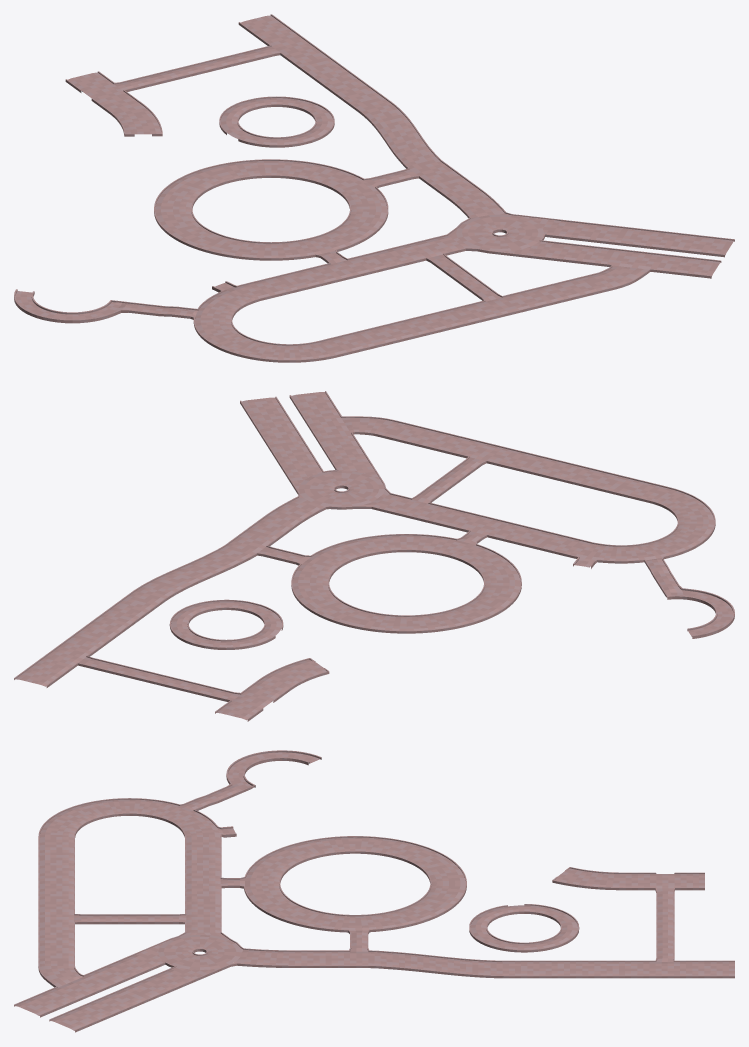
File: Map_PathsFlat.fbx
3 views of the same model, one above another, from view 1: azimuth 30°, elevation 25°; view 2: azimuth 150°, elevation 25°; view 3: azimuth 270°, elevation 25° (orthographic). The views are drawn at different scales.
Parts seen in each view (by area): view 1: MSH_Path_Wide_Long18, MSH_Path_Wide_Long5, polySurface2, MSH_Path_Wide_Long10, MSH_Path_Wide_Long2, MSH_Path_Wide_Long1, MSH_Path_Wide_Long7, MSH_Path_Wide_Long9, MSH_Path_Wide_Long13, MSH_Path_Wide_Medium8, MSH_Path_Wide_Long12, polySurface3 (+10 smaller); view 2: MSH_Path_Wide_Long18, MSH_Path_Wide_Long5, polySurface2, MSH_Path_Wide_Long2, MSH_Path_Wide_Long7, MSH_Path_Wide_Long1, MSH_Path_Wide_Long12, MSH_Path_Wide_Long13, MSH_Path_Wide_Medium8, MSH_Path_Wide_Long10, polySurface3, MSH_Path_Wide_Long9 (+10 smaller); view 3: MSH_Path_Wide_Long18, MSH_Path_Wide_Long5, MSH_Path_Wide_Long13, polySurface2, MSH_Path_Wide_Long12, MSH_Path_Wide_Medium8, MSH_Path_Wide_Long10, MSH_Path_Wide_Long9, MSH_Path_Wide_Long11, polySurface3, MSH_Path_Wide_Long2, MSH_Path_Wide_Long1 (+9 smaller).
Part boxes in pixels (x1,y1,x2,y2): MSH_Path_Wide_Long18: [154, 159, 388, 260]; MSH_Path_Wide_Long5: [193, 284, 337, 362]; polySurface2: [219, 96, 334, 147]; MSH_Path_Wide_Long10: [576, 222, 734, 257]; MSH_Path_Wide_Long2: [319, 308, 470, 356]; MSH_Path_Wide_Long1: [452, 276, 604, 324]; MSH_Path_Wide_Long7: [241, 252, 393, 300]; MSH_Path_Wide_Long9: [562, 244, 721, 278]; MSH_Path_Wide_Long13: [278, 42, 386, 108]; MSH_Path_Wide_Medium8: [65, 71, 162, 136]; MSH_Path_Wide_Long12: [354, 98, 441, 168]; polySurface3: [456, 214, 543, 253]; MSH_Path_Wide_Long18: [291, 534, 521, 633]; MSH_Path_Wide_Long5: [574, 487, 715, 563]; polySurface2: [169, 599, 283, 649]; MSH_Path_Wide_Long2: [518, 455, 667, 502]; MSH_Path_Wide_Long7: [442, 510, 592, 558]; MSH_Path_Wide_Long1: [387, 423, 536, 470]; MSH_Path_Wide_Long12: [128, 545, 257, 604]; MSH_Path_Wide_Long13: [52, 595, 160, 658]; MSH_Path_Wide_Medium8: [215, 658, 329, 721]; MSH_Path_Wide_Long10: [240, 396, 315, 464]; polySurface3: [298, 471, 386, 509]; MSH_Path_Wide_Long9: [289, 391, 364, 458]; MSH_Path_Wide_Long18: [244, 836, 466, 932]; MSH_Path_Wide_Long5: [38, 798, 221, 837]; MSH_Path_Wide_Long13: [515, 960, 661, 978]; polySurface2: [469, 904, 579, 952]; MSH_Path_Wide_Long12: [368, 950, 514, 978]; MSH_Path_Wide_Medium8: [552, 867, 704, 890]; MSH_Path_Wide_Long10: [49, 975, 178, 1032]; MSH_Path_Wide_Long9: [14, 961, 143, 1017]; MSH_Path_Wide_Long11: [230, 947, 368, 967]; polySurface3: [158, 935, 241, 969]; MSH_Path_Wide_Long2: [38, 836, 74, 899]; MSH_Path_Wide_Long1: [38, 898, 74, 961].
Size of the model in its own units: 10879 by 75.67 by 11800.
